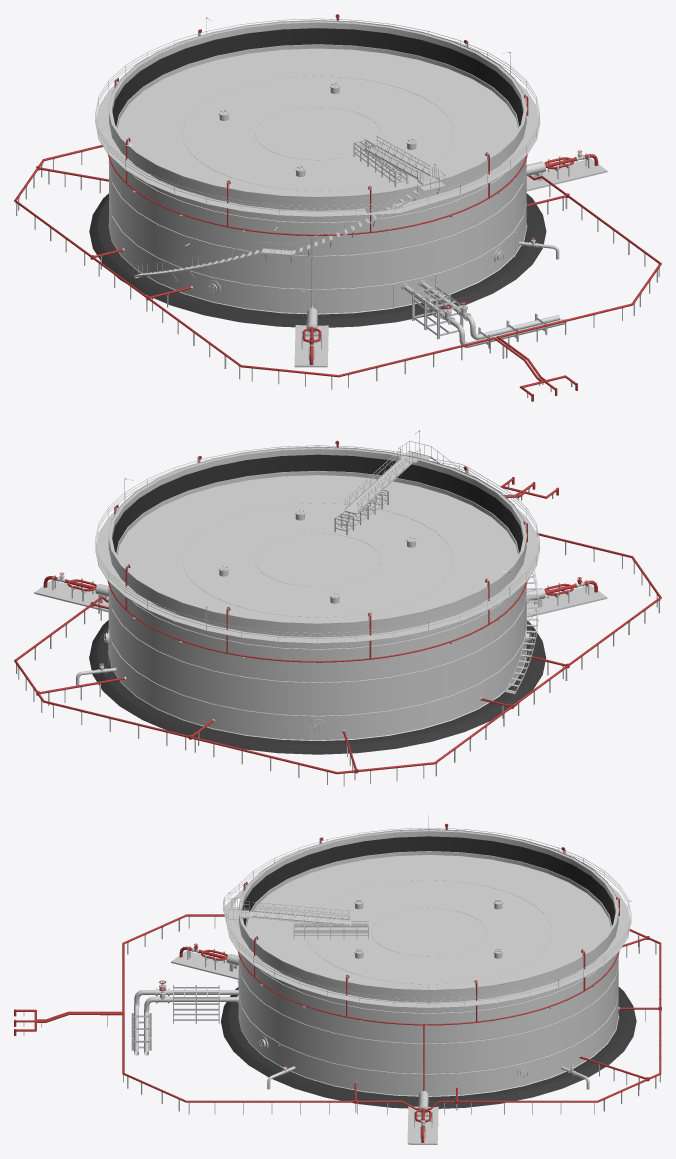
File: oil_storage_float.glb
3 renders of one model, top to bottom at view 1: azimuth 30°, elevation 25°; view 2: azimuth 150°, elevation 25°; view 3: azimuth 270°, elevation 25°, orthographic. The views are drawn at different scales.
Visible parts, largest first — view 1: Oil storage tank 4_white_0.001, Oil storage tank 4_black _0.001, Oil storage tank 4_red_0.001; view 2: Oil storage tank 4_white_0.001, Oil storage tank 4_black _0.001, Oil storage tank 4_red_0.001; view 3: Oil storage tank 4_white_0.001, Oil storage tank 4_black _0.001, Oil storage tank 4_red_0.001.
Boxes of the visible parts, x1=… form: Oil storage tank 4_white_0.001: x1=15, y1=14, x2=659, y2=397; Oil storage tank 4_black _0.001: x1=89, y1=17, x2=546, y2=327; Oil storage tank 4_red_0.001: x1=14, y1=14, x2=661, y2=401; Oil storage tank 4_white_0.001: x1=16, y1=430, x2=660, y2=786; Oil storage tank 4_black _0.001: x1=89, y1=431, x2=546, y2=754; Oil storage tank 4_red_0.001: x1=14, y1=440, x2=661, y2=774; Oil storage tank 4_white_0.001: x1=23, y1=815, x2=661, y2=1144; Oil storage tank 4_black _0.001: x1=221, y1=836, x2=636, y2=1108; Oil storage tank 4_red_0.001: x1=14, y1=823, x2=661, y2=1142.
Size of the model in its own units: 32.94 by 9.37 by 41.49.
